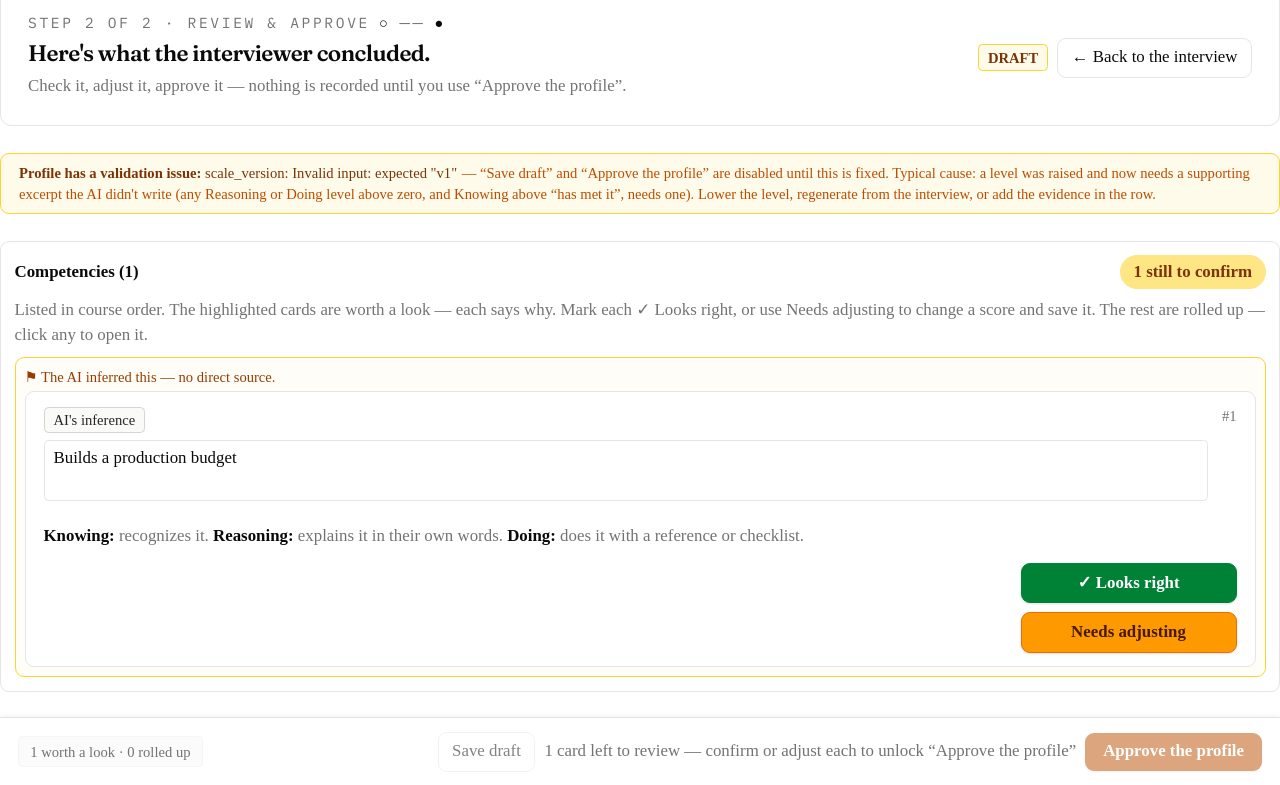
it: review card — one plain status tag › the dispute flag lives inside "Needs adjusting", not in the tag row
Expected: the button "flag" is not shown
Click the button "Needs adjusting" at (1128, 632), box 1020,612 -> 1236,653
(page scrolled)
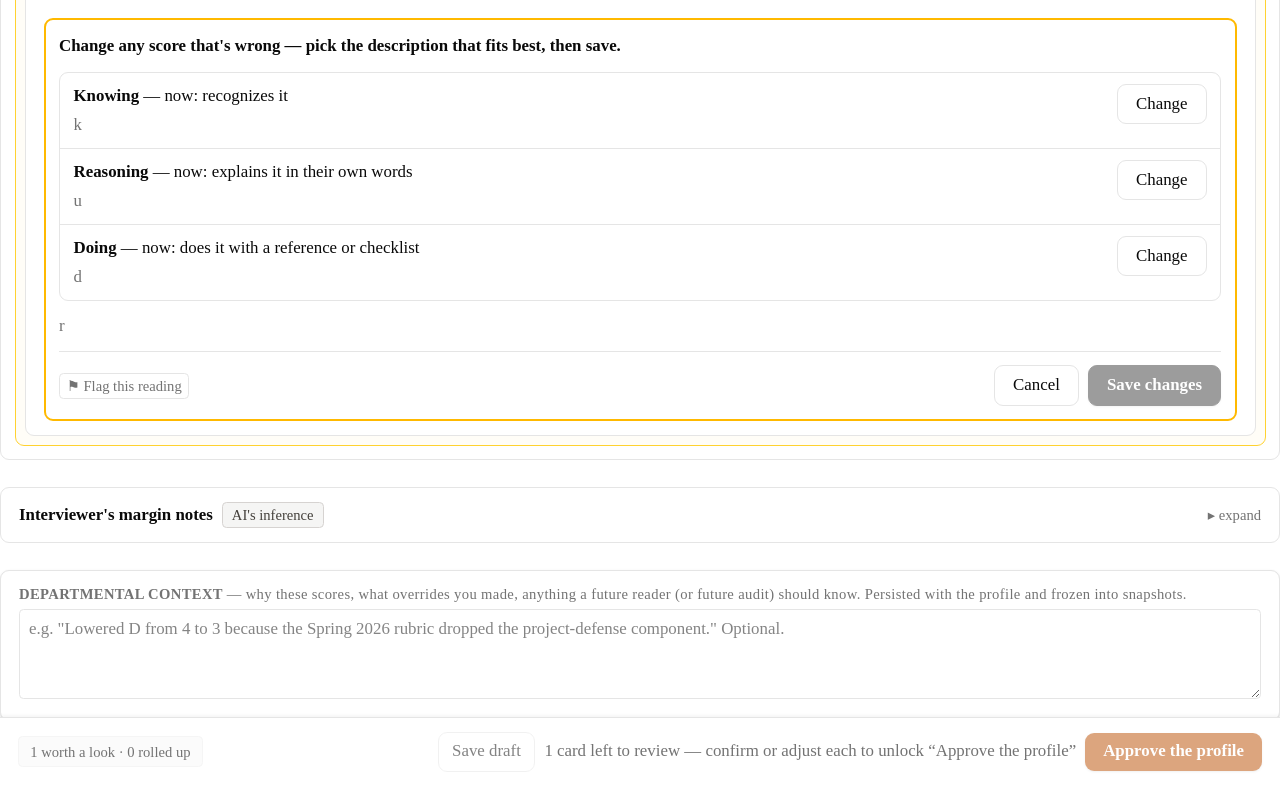
Result: the button "⚑ Flag this reading" is shown at 59,372 -> 190,399
